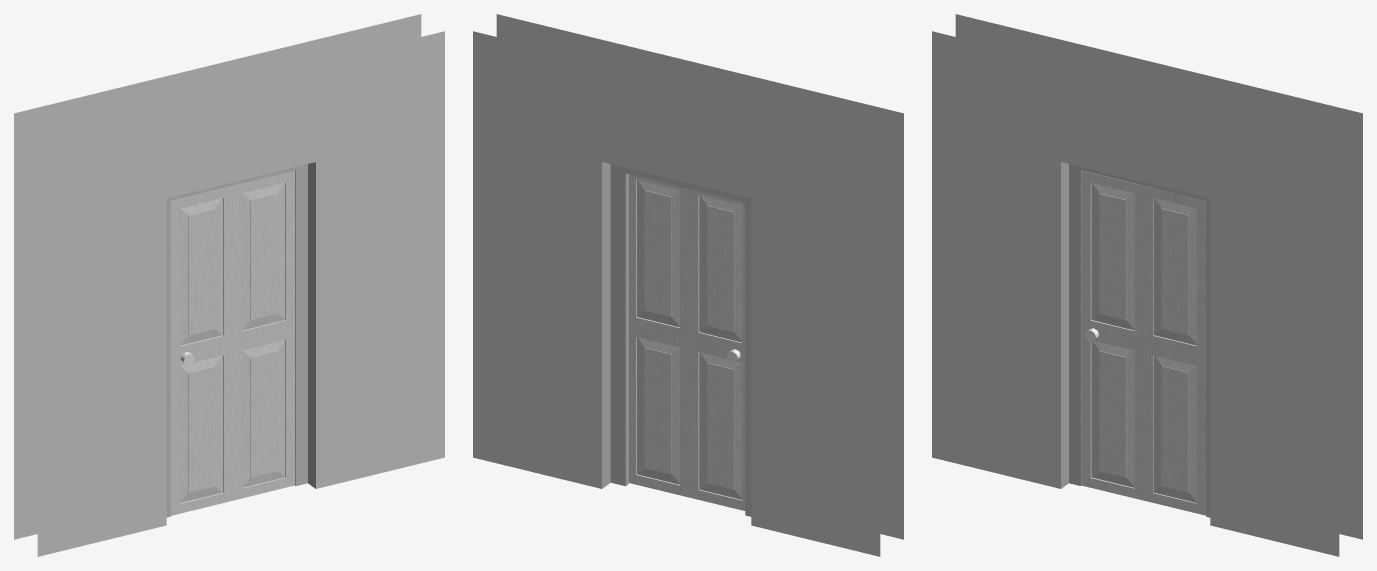
File: Door_Wall.fbx
3 renders of one model, left to right at view 1: azimuth 30°, elevation 25°; view 2: azimuth 150°, elevation 25°; view 3: azimuth 330°, elevation 25°, orthographic.
Visible parts, largest first — view 1: Door_Wall, Door; view 2: Door_Wall, Door; view 3: Door_Wall, Door.
Part boxes in pixels (x1=…): Door_Wall: x1=14, y1=14, x2=444, y2=556; Door: x1=170, y1=170, x2=295, y2=515; Door_Wall: x1=473, y1=14, x2=903, y2=556; Door: x1=629, y1=174, x2=745, y2=510; Door_Wall: x1=932, y1=14, x2=1362, y2=556; Door: x1=1081, y1=170, x2=1206, y2=515.
Bounding box in the file's own units: 300 × 300 × 30.
